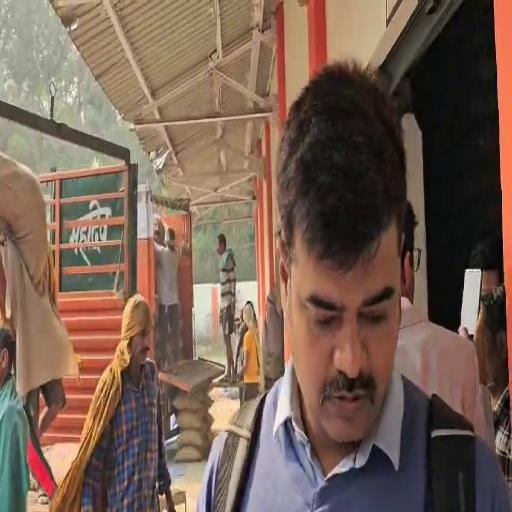bag: (0, 136, 54, 286)
